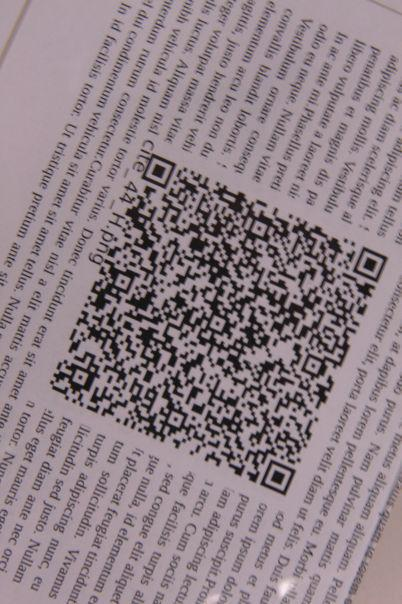Finder pattern: (139, 152, 180, 190), (350, 245, 389, 284), (259, 459, 294, 497)
